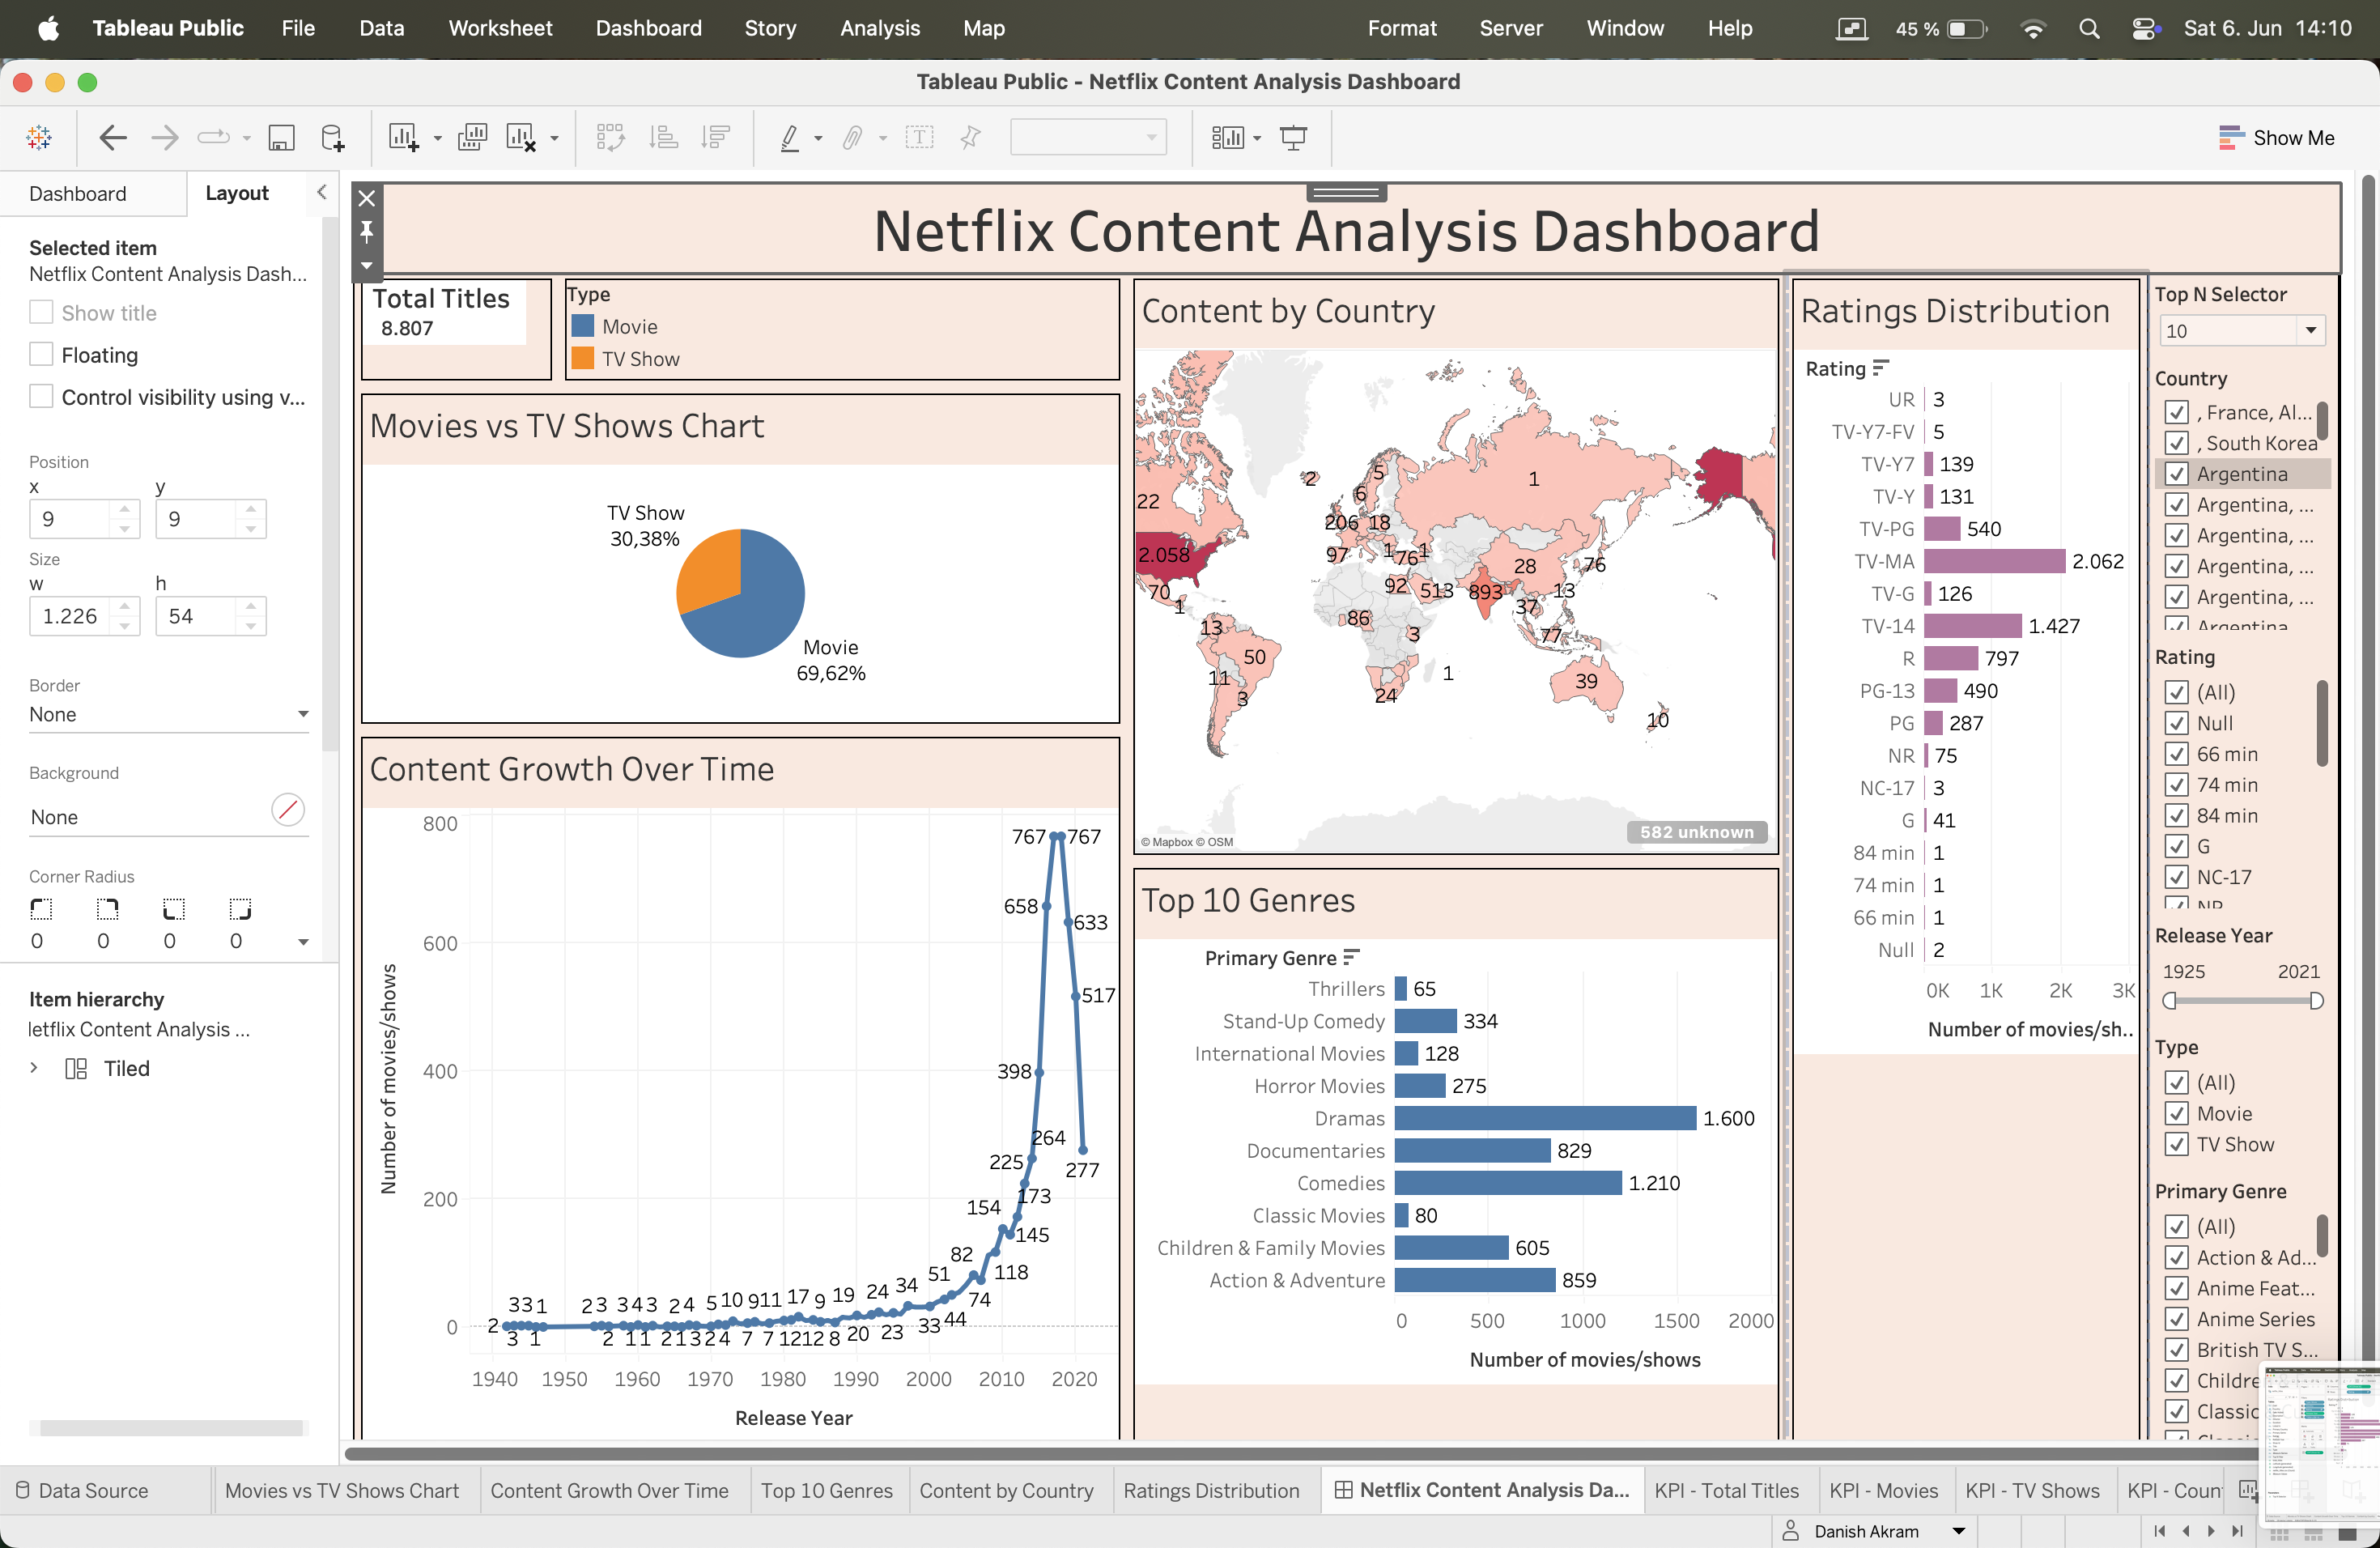

What the dashboard file says about the page in this screenshot:
{"tool":"tableau","page":{"name":"Netflix Content Analysis Dashboard","canvas":[1000,1000],"units":"permille","ordinal":0},"visuals":[{"type":"title","box":[7.2,11.2,985.5,67.5]},{"type":"worksheet","title":"KPI - Total Titles","mark":"Automatic","box":[7.2,78.8,101.3,88.8]},{"type":"legend","title":"Movies vs TV Shows Chart","param":"[federated.1an6mk20tlu6t91gb3ltc0egpe7b].[none:type:nk]","box":[108.5,78.8,282.2,88.8]},{"type":"worksheet","title":"Content by Country","mark":"Automatic","box":[390.7,78.8,327.2,454.9]},{"type":"worksheet","title":"Ratings Distribution","mark":"Automatic","rows":["rating"],"cols":["show_id"],"box":[717.8,78.8,179.3,910]},{"type":"parameter","param":"[Parameters].[Parameter 1]","box":[897.9,80,94.1,65]},{"type":"filter","title":"Movies vs TV Shows Chart","param":"[federated.1an6mk20tlu6t91gb3ltc0egpe7b].[none:country:nk]","box":[897.9,145,94.1,215]},{"type":"worksheet","title":"Movies vs TV Shows Chart","mark":"Pie","box":[7.2,167.5,383.4,264.9]},{"type":"filter","title":"Movies vs TV Shows Chart","param":"[federated.1an6mk20tlu6t91gb3ltc0egpe7b].[none:rating:nk]","box":[897.9,360,94.1,215]},{"type":"worksheet","title":"Content Growth Over Time","mark":"Automatic","rows":["show_id"],"cols":["release_year"],"box":[7.2,432.4,383.4,556.4]},{"type":"worksheet","title":"Top 10 Genres","mark":"Automatic","rows":["Calculation_5668472859611137"],"cols":["show_id"],"box":[390.7,533.6,327.2,455.1]},{"type":"filter","title":"Movies vs TV Shows Chart","param":"[federated.1an6mk20tlu6t91gb3ltc0egpe7b].[none:release_year:qk]","box":[897.9,575,94.1,86.2]},{"type":"filter","title":"Movies vs TV Shows Chart","param":"[federated.1an6mk20tlu6t91gb3ltc0egpe7b].[none:type:nk]","box":[897.9,661.2,94.1,111.2]},{"type":"filter","title":"Content by Country","param":"[federated.1an6mk20tlu6t91gb3ltc0egpe7b].[none:Calculation_5668472859611137:nk]","box":[897.9,772.5,94.1,215]}]}

Visuals, with their boxes on the dashboard's canvas, which has no fixed pixel size, in thousandths of its width and height (x1, y1, x2, y2). These are canvas units, not pixel positions in the 2380x1548 screenshot, which may show the page scaled, cropped or inside an application window:
title: x1=7, y1=11, x2=993, y2=79
"KPI - Total Titles" worksheet: x1=7, y1=79, x2=108, y2=168
"Movies vs TV Shows Chart" legend: x1=108, y1=79, x2=391, y2=168
"Content by Country" worksheet: x1=391, y1=79, x2=718, y2=534
"Ratings Distribution" worksheet: x1=718, y1=79, x2=897, y2=989
parameter: x1=898, y1=80, x2=992, y2=145
"Movies vs TV Shows Chart" filter: x1=898, y1=145, x2=992, y2=360
"Movies vs TV Shows Chart" worksheet (Pie marks): x1=7, y1=168, x2=391, y2=432
"Movies vs TV Shows Chart" filter: x1=898, y1=360, x2=992, y2=575
"Content Growth Over Time" worksheet: x1=7, y1=432, x2=391, y2=989
"Top 10 Genres" worksheet: x1=391, y1=534, x2=718, y2=989
"Movies vs TV Shows Chart" filter: x1=898, y1=575, x2=992, y2=661
"Movies vs TV Shows Chart" filter: x1=898, y1=661, x2=992, y2=772
"Content by Country" filter: x1=898, y1=772, x2=992, y2=988
